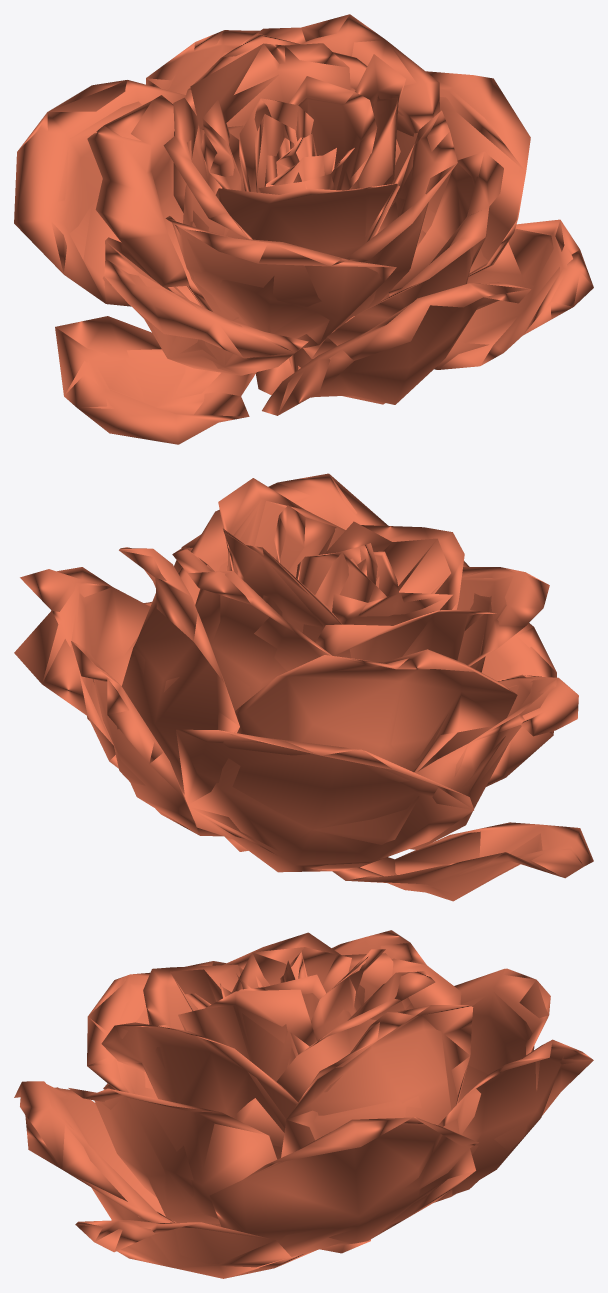
File: rose NEW UP.fbx
3 renders of one model, top to bottom at view 1: azimuth 30°, elevation 25°; view 2: azimuth 150°, elevation 25°; view 3: azimuth 270°, elevation 25°, orthographic. The views are drawn at different scales.
Visible parts, largest first — view 1: ruža; view 2: ruža; view 3: ruža.
Part boxes in pixels (x1,y1,x2,y2): ruža: [14, 14, 593, 444]; ruža: [14, 473, 593, 901]; ruža: [14, 930, 593, 1278].
Bounding box in the file's own units: 51.94 × 55.7 × 33.12.
